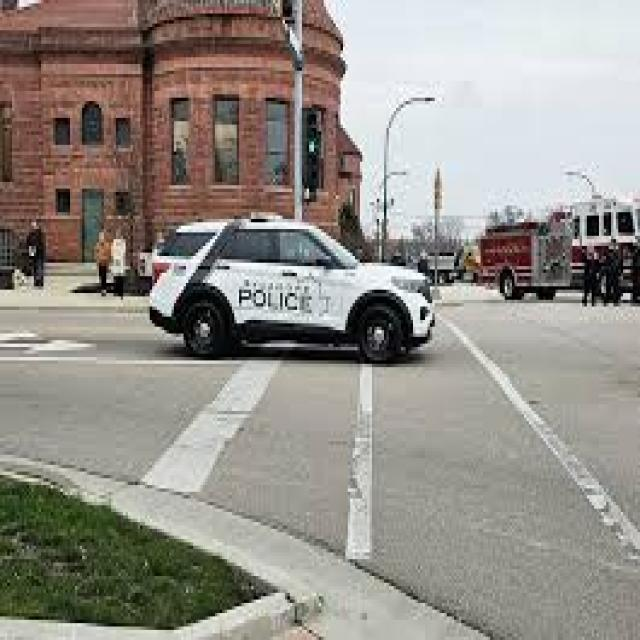cop: (140, 213, 438, 365)
